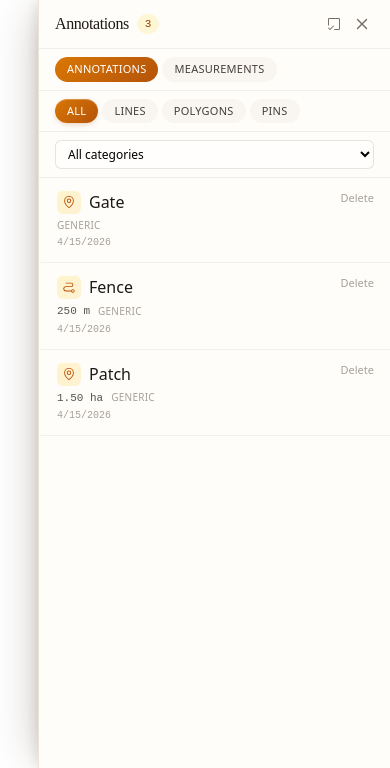
Scenario: AnnotationsSidebar › entering multi-select mode shows checkboxes
Click the button named "multi-select": (334, 24) [322,12,346,36]
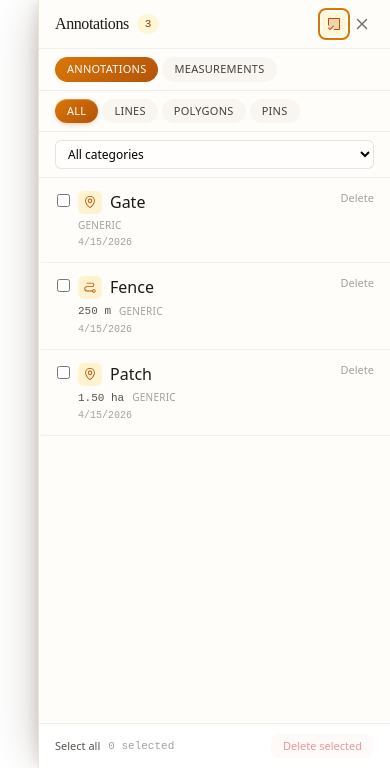
Result: the number of checkboxes is 3 at [57,194,70,207]; [57,279,70,292]; [57,366,70,378]
